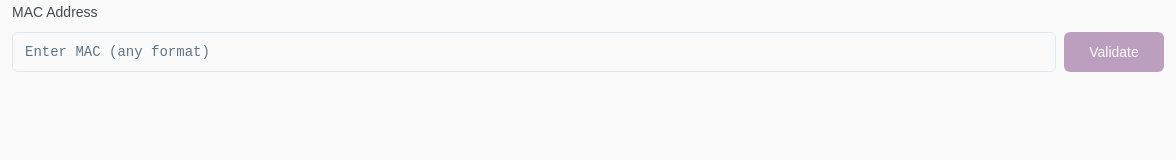
MacValidator › validation flow › shows error for incomplete MAC address
Type "AABBCC" into the field with placeholder "Enter MAC (any format)" at [534, 52], box [12, 32, 1056, 72]
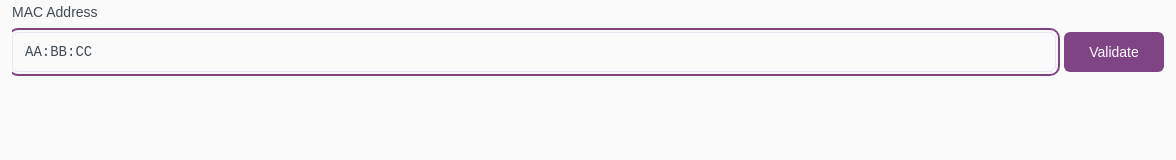
Click the button "Validate" at [1114, 52], box [1064, 32, 1164, 72]
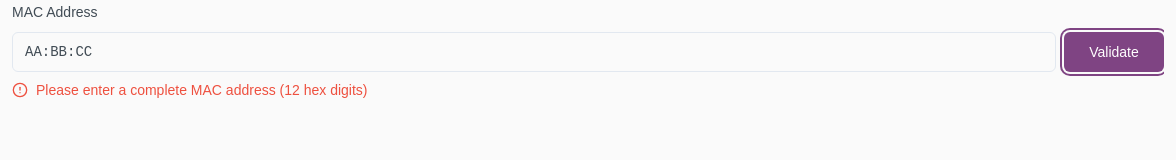
Now the text "Please enter a complete MAC address (12 hex digits)" is shown, box [36, 80, 368, 100]
